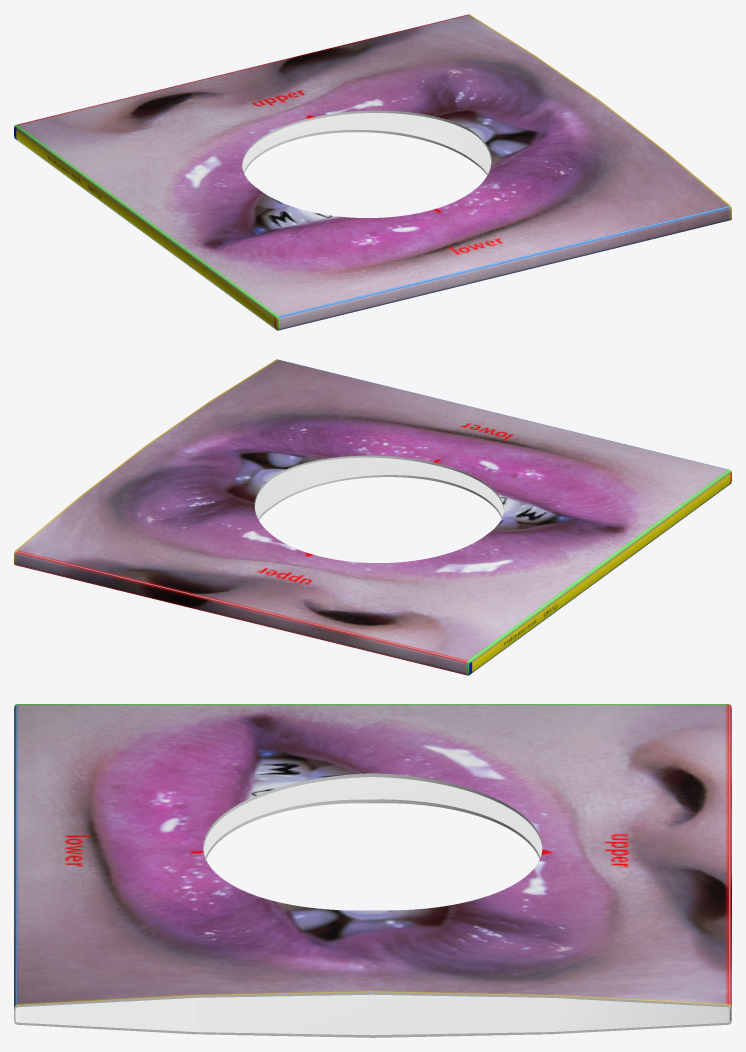
Rendered from sleeve_7_double_holed.dae.
The picture shows the model from 3 angles, top to bottom: view 1: azimuth 30°, elevation 25°; view 2: azimuth 150°, elevation 25°; view 3: azimuth 270°, elevation 25°; orthographic projection. The views are drawn at different scales.
Visible parts, largest first — view 1: sleeve; view 2: sleeve; view 3: sleeve.
Part boxes in pixels (x1,y1,x2,y2): sleeve: (14,14,731,330); sleeve: (14,359,731,675); sleeve: (14,704,731,1037).
Size of the model in its own units: 17.94 by 1.27 by 18.01.
Materials: 1 (1 with a texture image).
